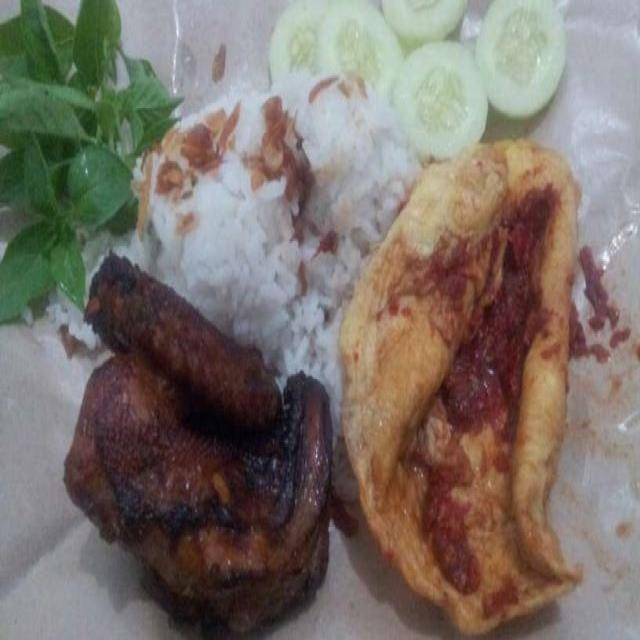鸡肉料理 含炸鸡: (34, 81, 588, 634)
